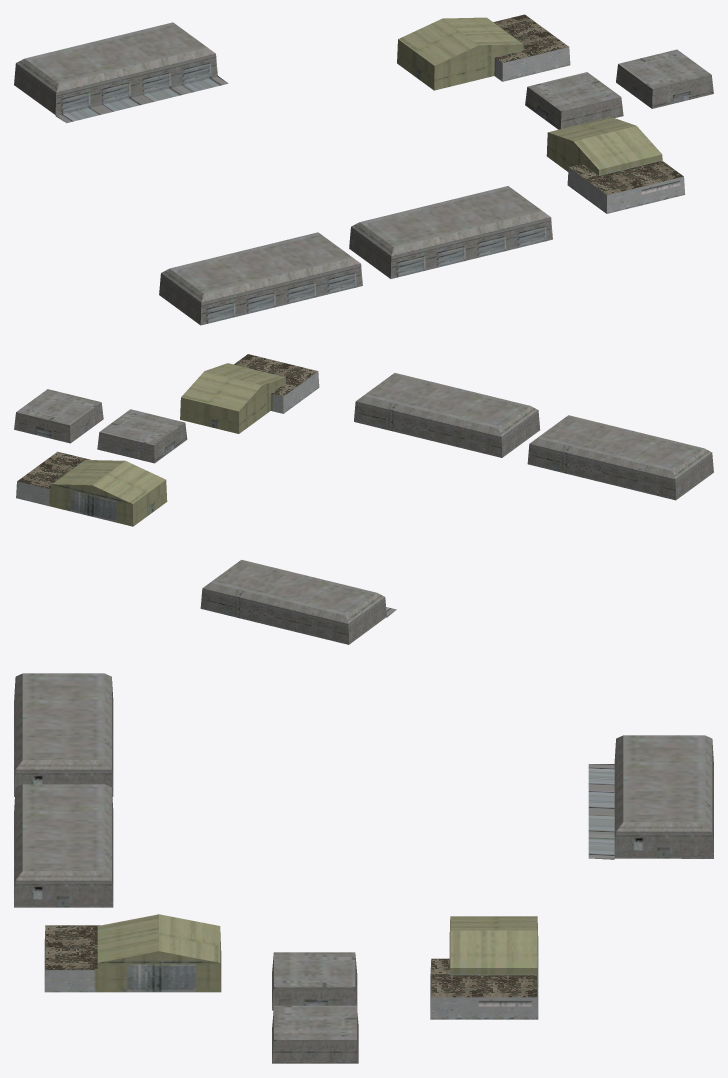
The model's file is lod_a51_outbldgs.obj.
3 views of the same model, one above another, from view 1: azimuth 30°, elevation 25°; view 2: azimuth 150°, elevation 25°; view 3: azimuth 270°, elevation 25° (orthographic). The views are drawn at different scales.
Parts seen in each view (by area): view 1: lod_a51_outbldgs; view 2: lod_a51_outbldgs; view 3: lod_a51_outbldgs.
Part boxes in pixels (box(x1,y1,x2,y2)): lod_a51_outbldgs: box(14, 14, 713, 325); lod_a51_outbldgs: box(14, 354, 713, 644); lod_a51_outbldgs: box(14, 673, 713, 1063).
Size of the model in its own units: 138 by 7.37 by 113.
4 materials, 4 textured.
